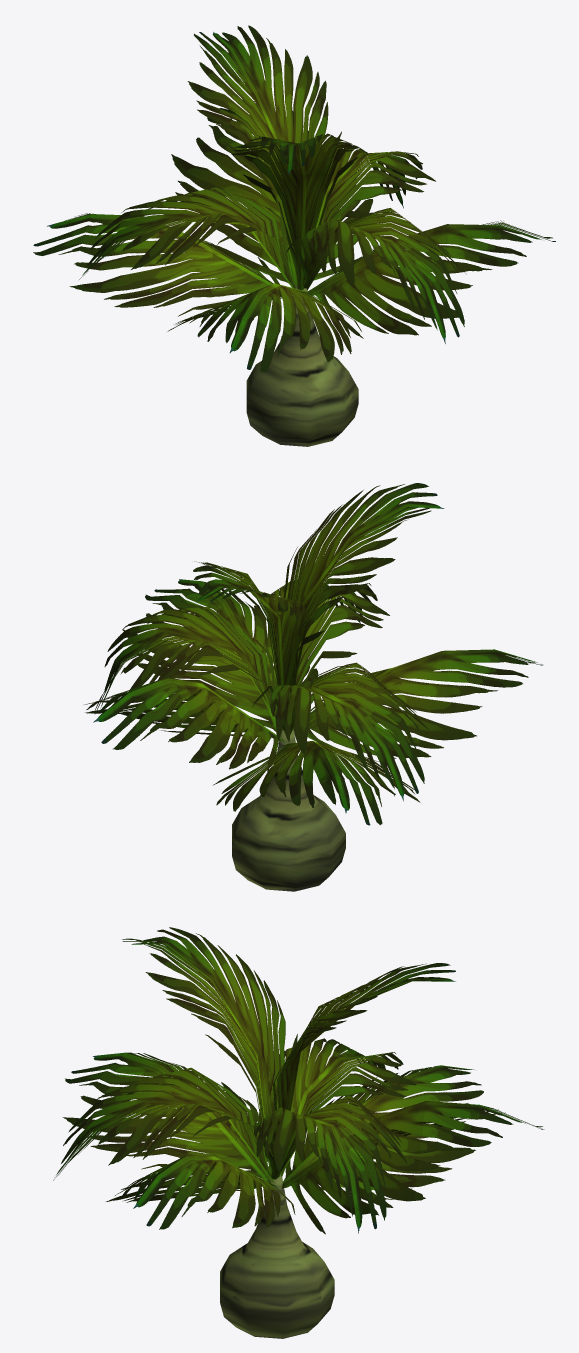
Rendered from StrangeTreeBaby(SimpleMesh).fbx.
3 renders of one model, top to bottom at view 1: azimuth 30°, elevation 25°; view 2: azimuth 150°, elevation 25°; view 3: azimuth 270°, elevation 25°, orthographic. The views are drawn at different scales.
Parts seen in each view (by area): view 1: YoungExoticPlant01; view 2: YoungExoticPlant01; view 3: YoungExoticPlant01.
Part boxes in pixels (x1,y1,x2,y2): YoungExoticPlant01: (33, 25, 555, 446); YoungExoticPlant01: (84, 483, 542, 891); YoungExoticPlant01: (53, 927, 544, 1338).
Bounding box in the file's own units: 129 × 95.68 × 133.
